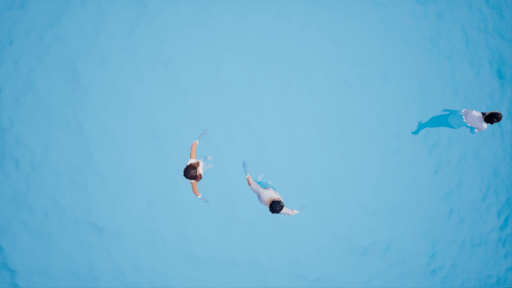person: (237, 160, 304, 218), (407, 107, 507, 137), (180, 124, 216, 200)
